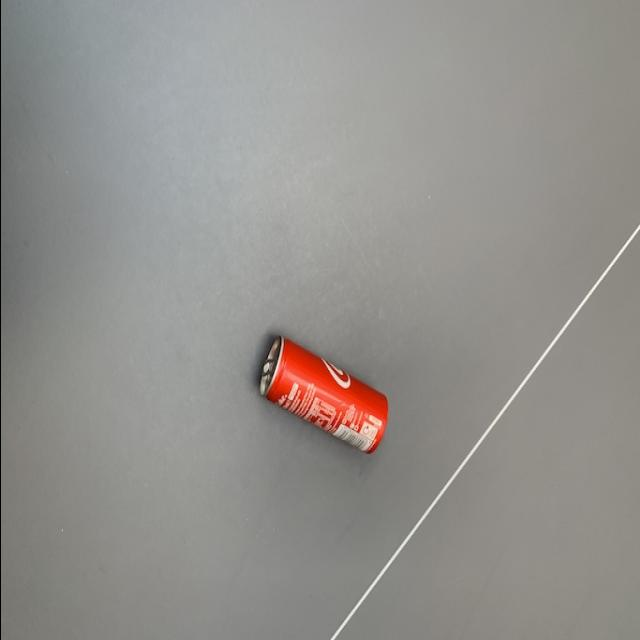Aluminum Can: (252, 330, 394, 454)
